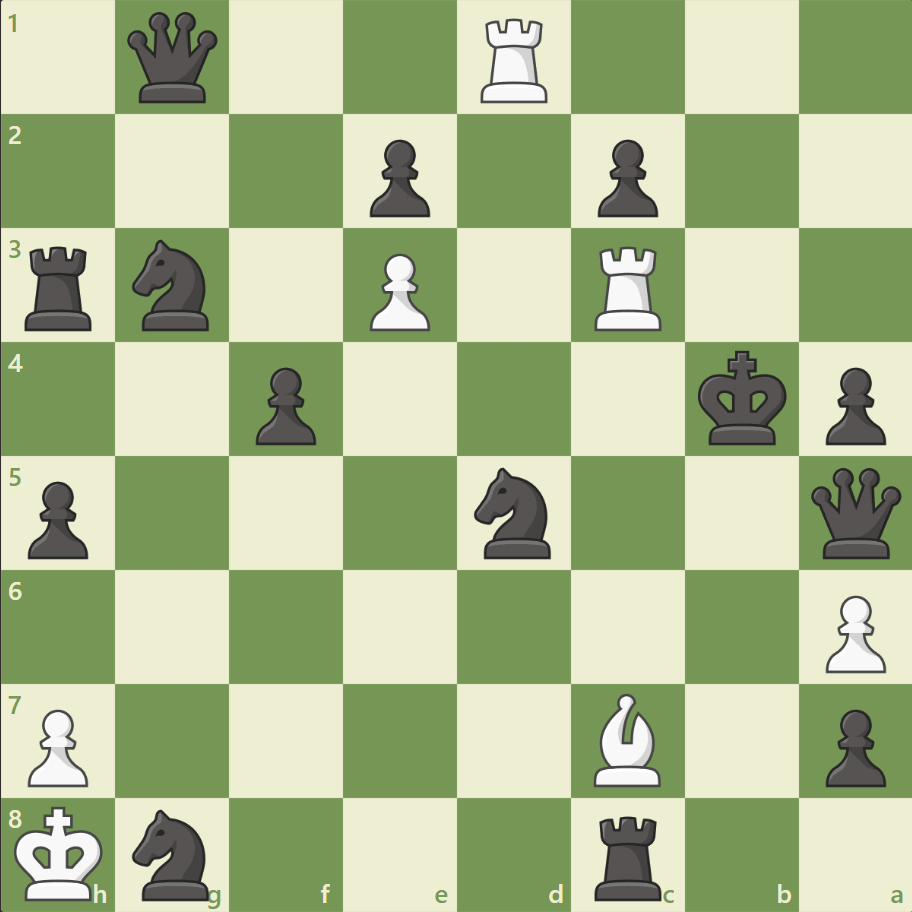B: (585, 687, 669, 790)
K: (11, 798, 111, 906)
P: (20, 700, 95, 791), (815, 586, 889, 677), (361, 246, 435, 337)
R: (587, 239, 670, 336), (473, 12, 556, 109)
k: (692, 344, 792, 452)
n: (124, 234, 222, 337), (124, 802, 222, 904), (465, 461, 562, 564)
p: (20, 473, 95, 564), (247, 359, 322, 450), (815, 700, 889, 791), (815, 359, 889, 450), (588, 132, 662, 223), (361, 132, 435, 223)
q: (805, 463, 904, 562), (124, 9, 223, 108)
r: (587, 806, 670, 904), (19, 239, 102, 336)
